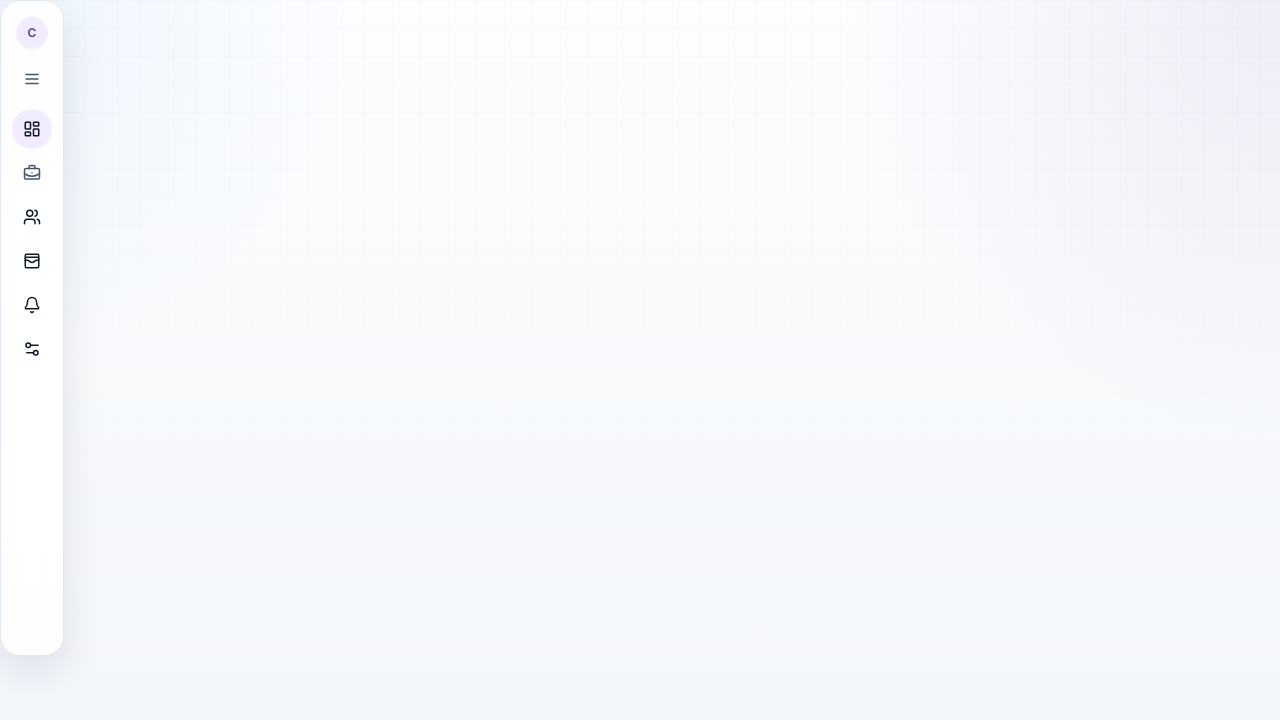
Test: CareerizAppShell / collapsible navigation rail › an unpinned rail collapses after a route change
The width and height of the screenshot is (1280, 720).
Hover over the element named "Expand navigation" at (32,328), box x1=0 y1=0 x2=64 y2=656
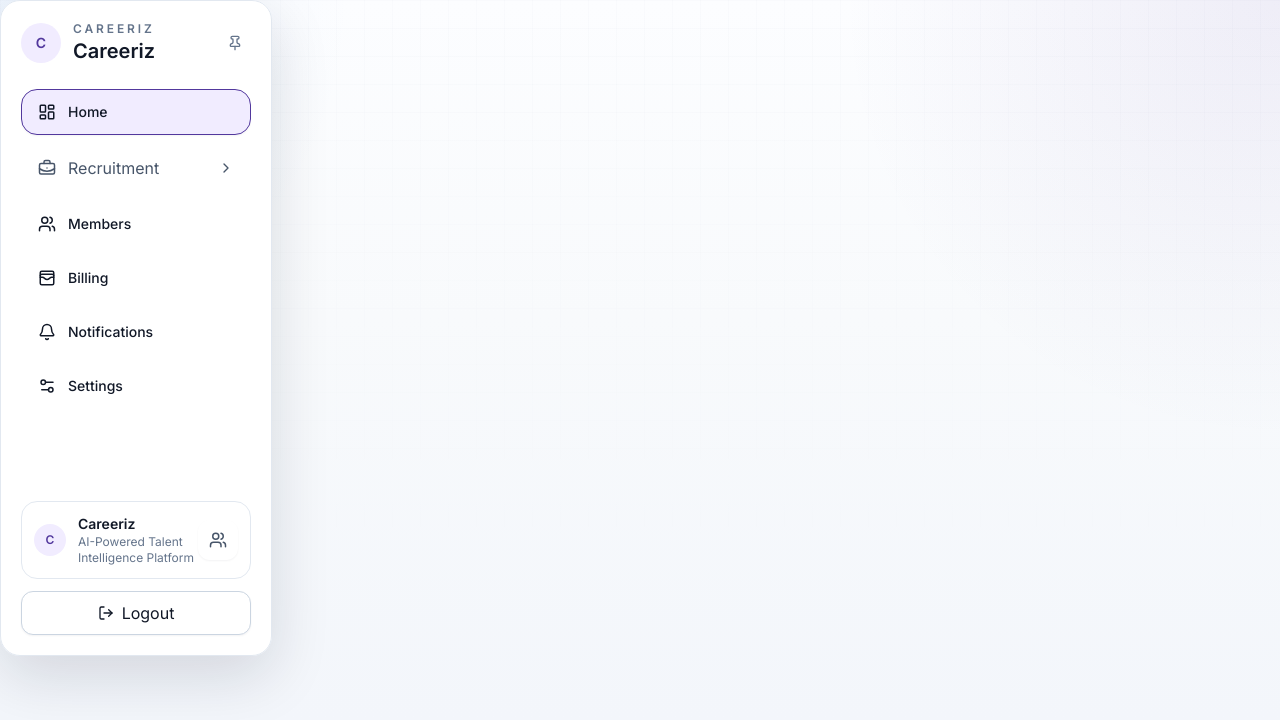
Check: the element named "Expanded navigation" is shown, box x1=0 y1=0 x2=272 y2=656
